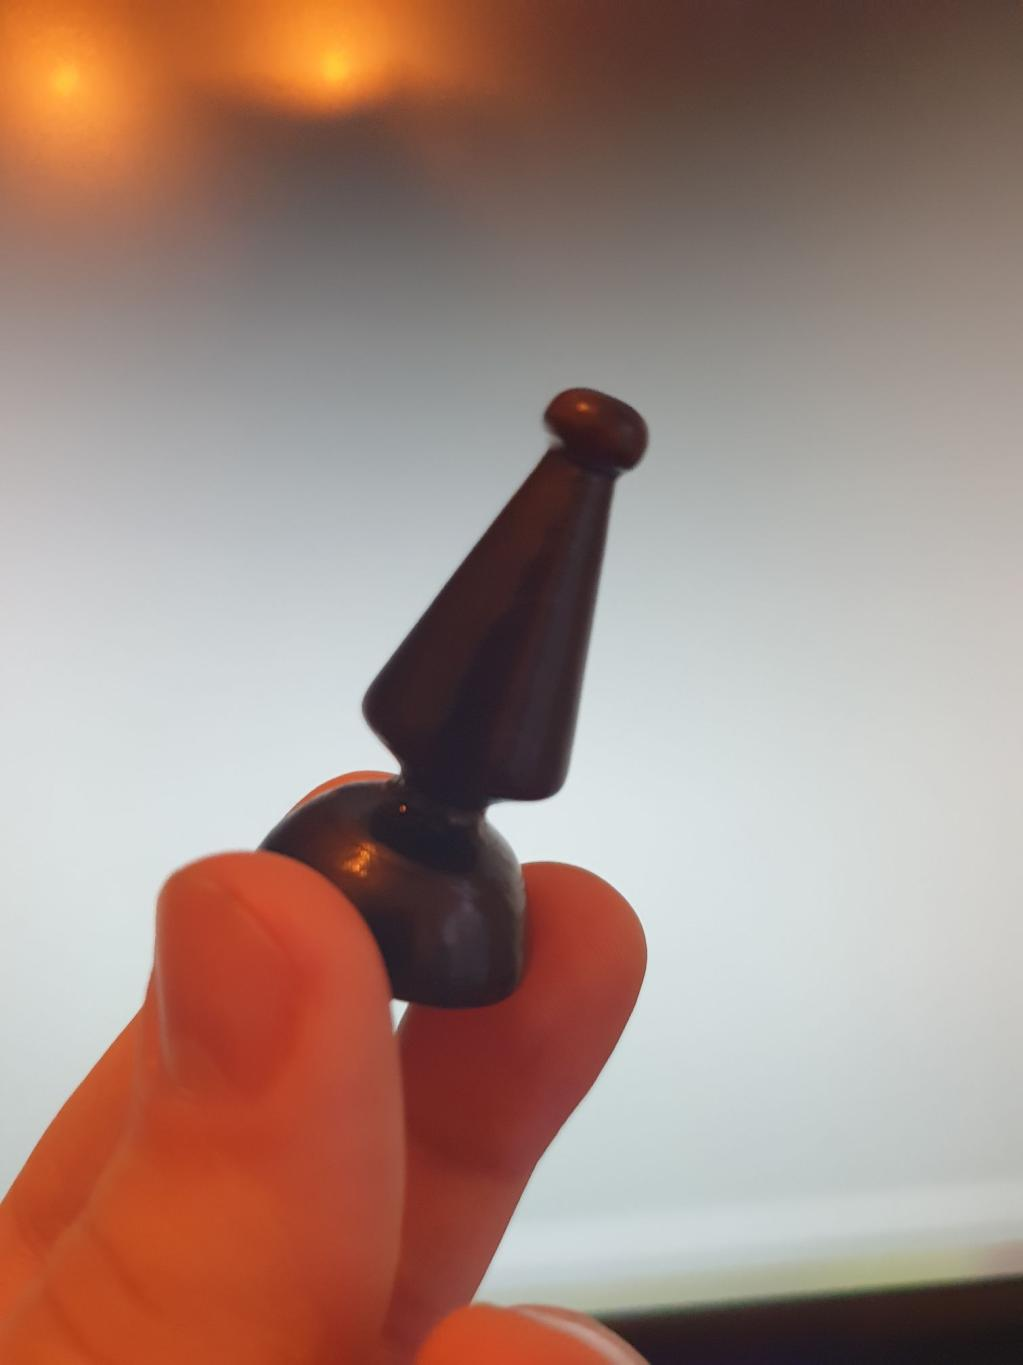bbishop: (254, 385, 650, 1011)
